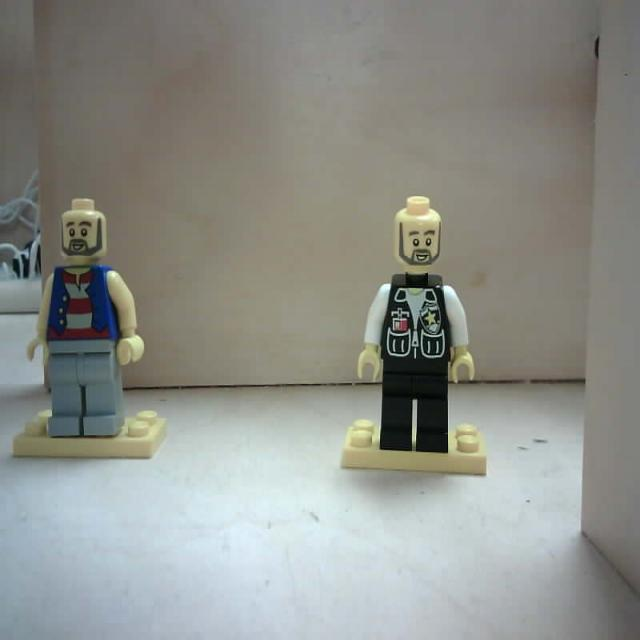Lego-People: (340, 194, 487, 476), (15, 198, 166, 462)
